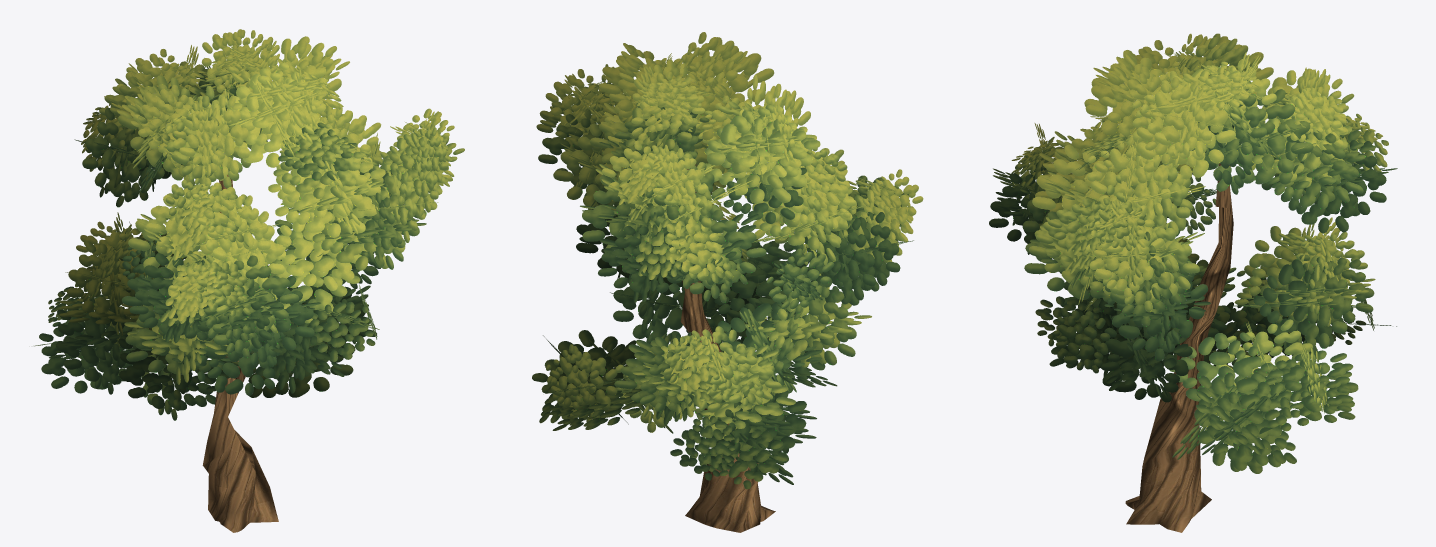
File: tree_spread_far.glb
3 renders of one model, left to right at view 1: azimuth 30°, elevation 25°; view 2: azimuth 150°, elevation 25°; view 3: azimuth 270°, elevation 25°, orthographic. The views are drawn at different scales.
Visible parts, largest first — view 1: Canopy, tree_spread_far; view 2: Canopy, tree_spread_far; view 3: Canopy, tree_spread_far.
Part boxes in pixels (x1,y1,x2,y2): Canopy: (34, 29, 464, 420); tree_spread_far: (202, 174, 278, 532); Canopy: (532, 32, 923, 489); tree_spread_far: (680, 164, 775, 532); Canopy: (989, 33, 1397, 473); tree_spread_far: (1125, 163, 1233, 532).
Bounding box in the file's own units: 1.66 × 1.92 × 1.65.
Materials: 2 (2 with a texture image).
